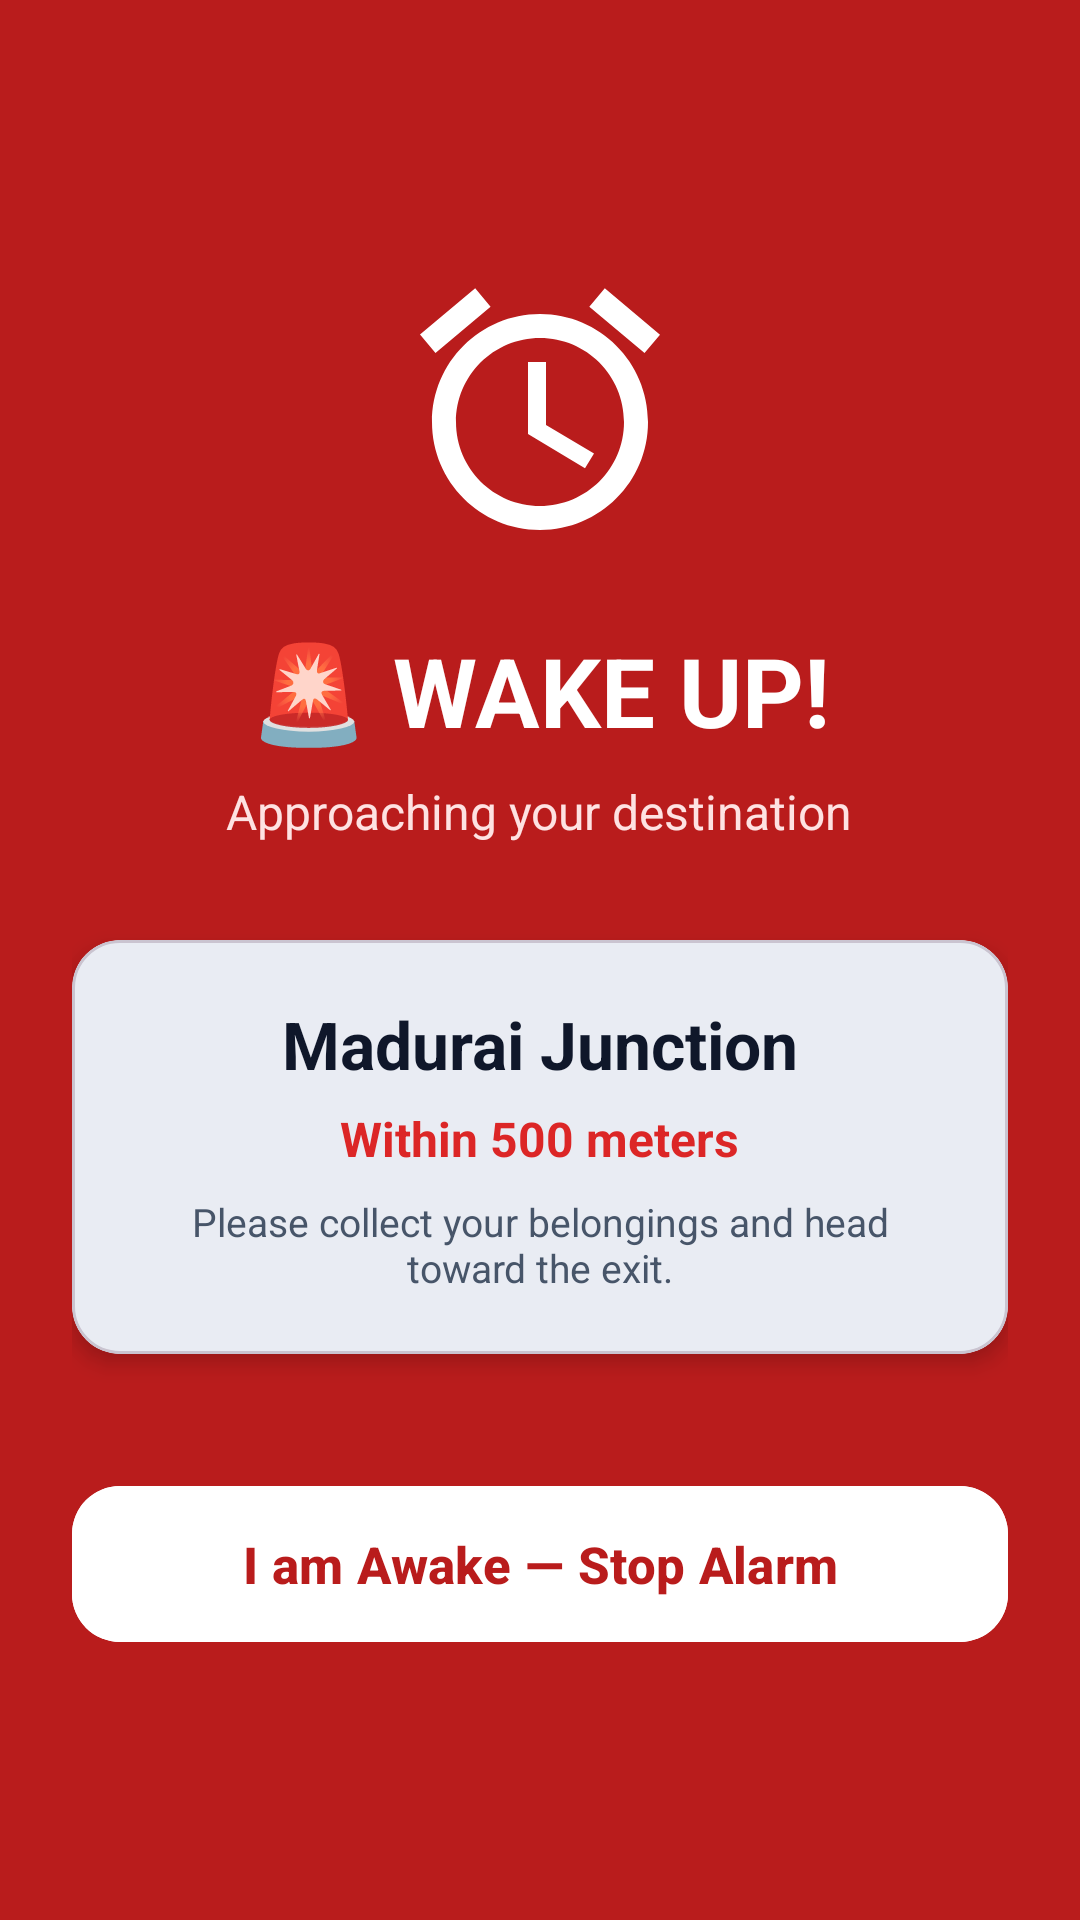

Screen size 1080x1920. Icon name, then its center in pixels as point (x, y):
Alarm Wake Bell: point (540, 409)
